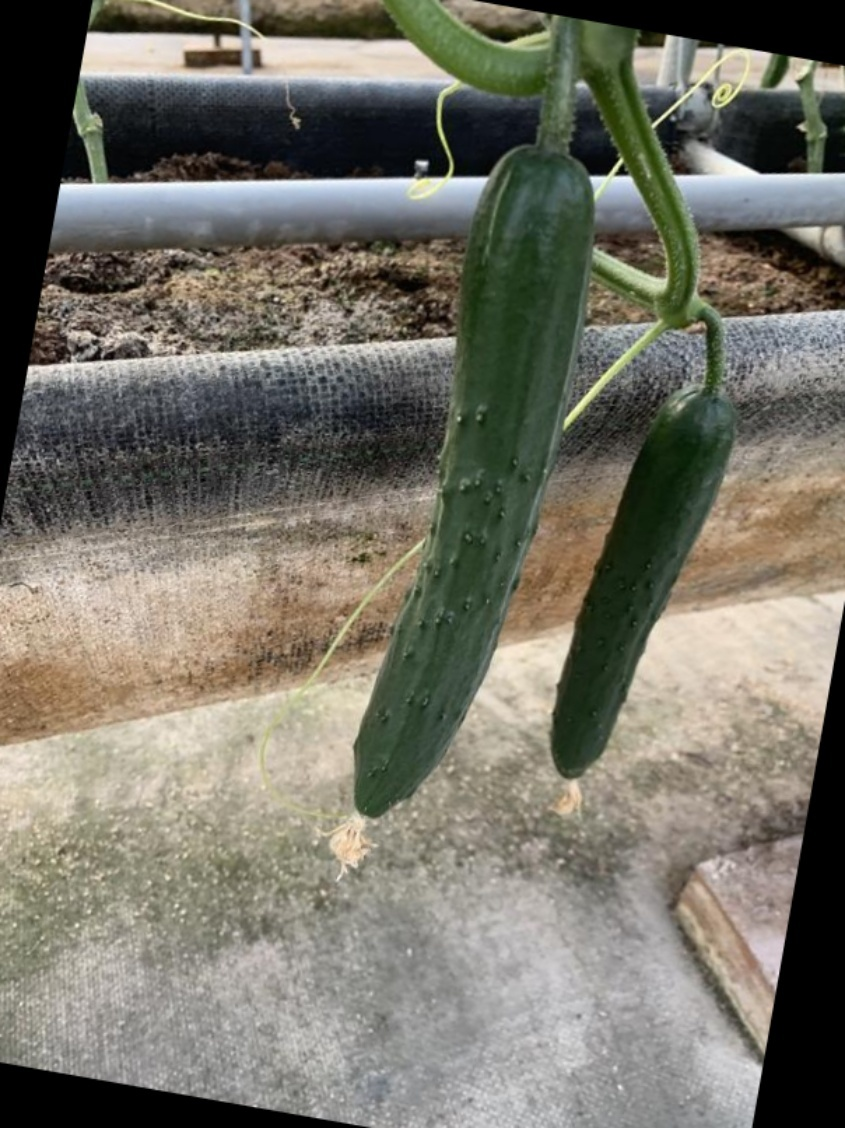mature: (539, 389, 740, 791)
